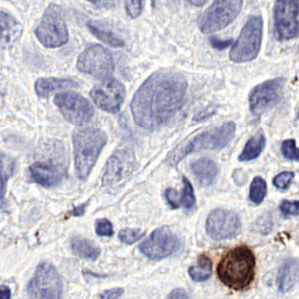Lymphocyte: (214, 241, 259, 288)
